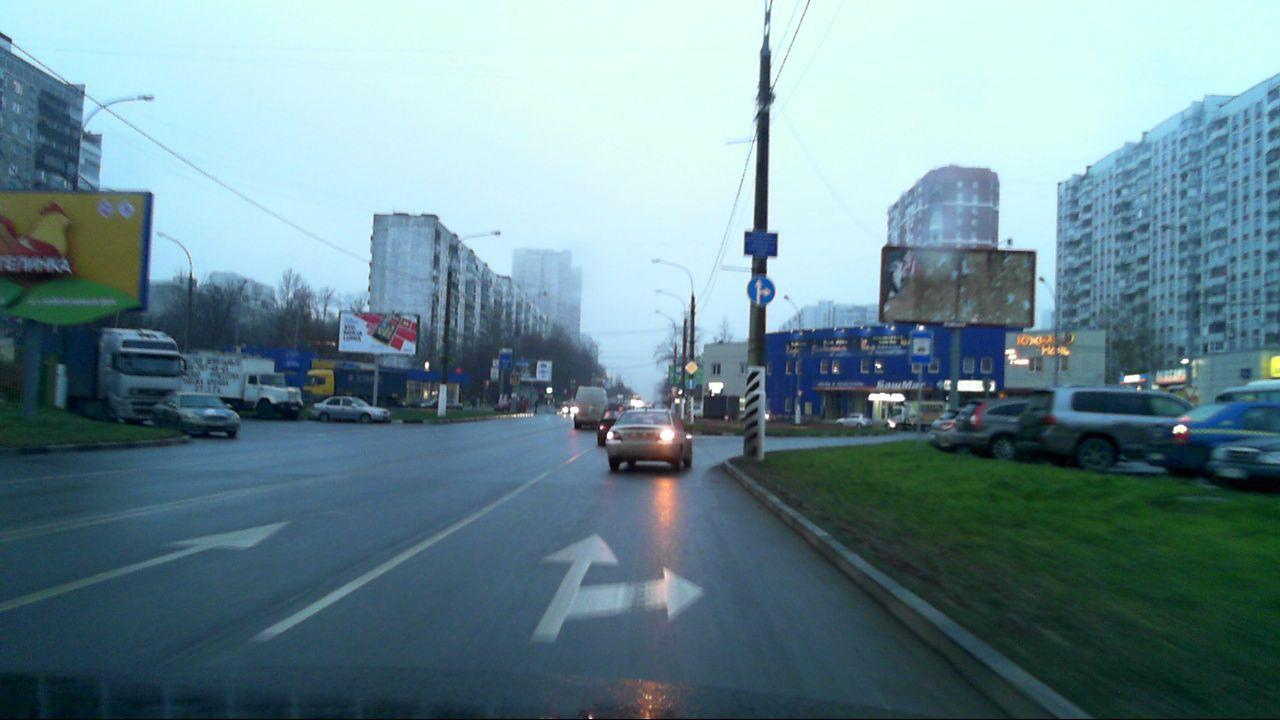2_1: (684, 360, 700, 375)
4_1_1: (686, 378, 697, 389)
4_1_4: (744, 274, 777, 307)
5_18: (909, 330, 935, 364)
